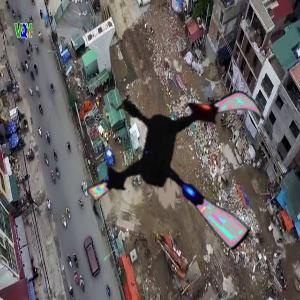drone: (83, 66, 287, 270)
